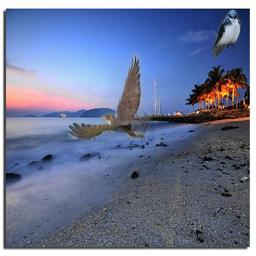Cuckoo: (68, 53, 158, 140)
Swallow: (211, 9, 241, 57)
